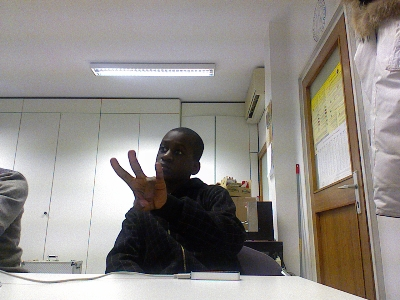观音: (107, 150, 168, 213)
